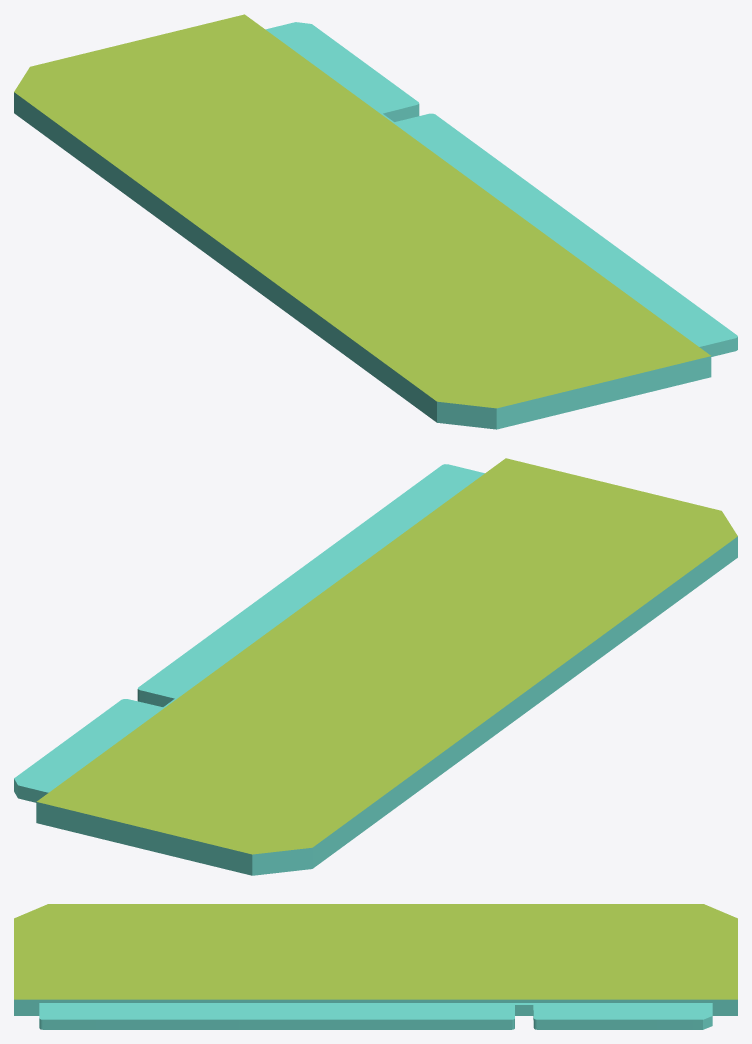
File: PCI_Board_B.fbx
3 renders of one model, top to bottom at view 1: azimuth 30°, elevation 25°; view 2: azimuth 150°, elevation 25°; view 3: azimuth 270°, elevation 25°, orthographic. The views are drawn at different scales.
Parts seen in each view (by area): view 1: PCI_Board_B; view 2: PCI_Board_B; view 3: PCI_Board_B.
Part boxes in pixels (bbox=[...]): PCI_Board_B: bbox=[14, 14, 737, 429]; PCI_Board_B: bbox=[14, 458, 737, 875]; PCI_Board_B: bbox=[14, 904, 737, 1029].
Bounding box in the file's own units: 14.71 × 1 × 40.
